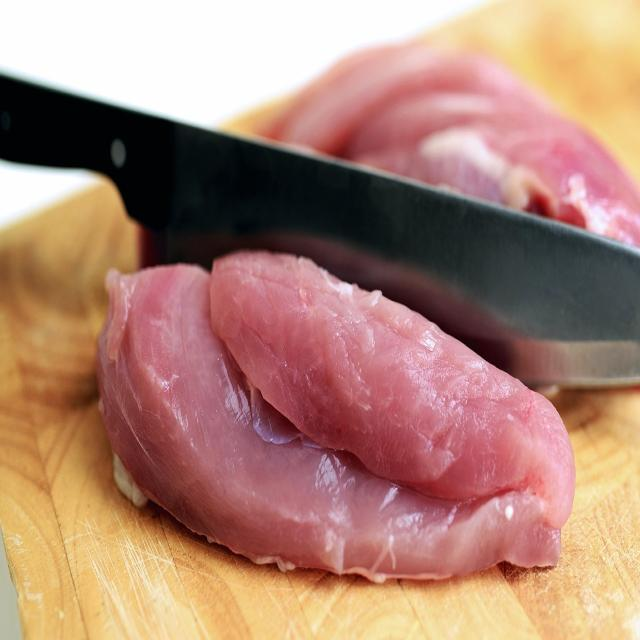Knife: (0, 74, 640, 386)
